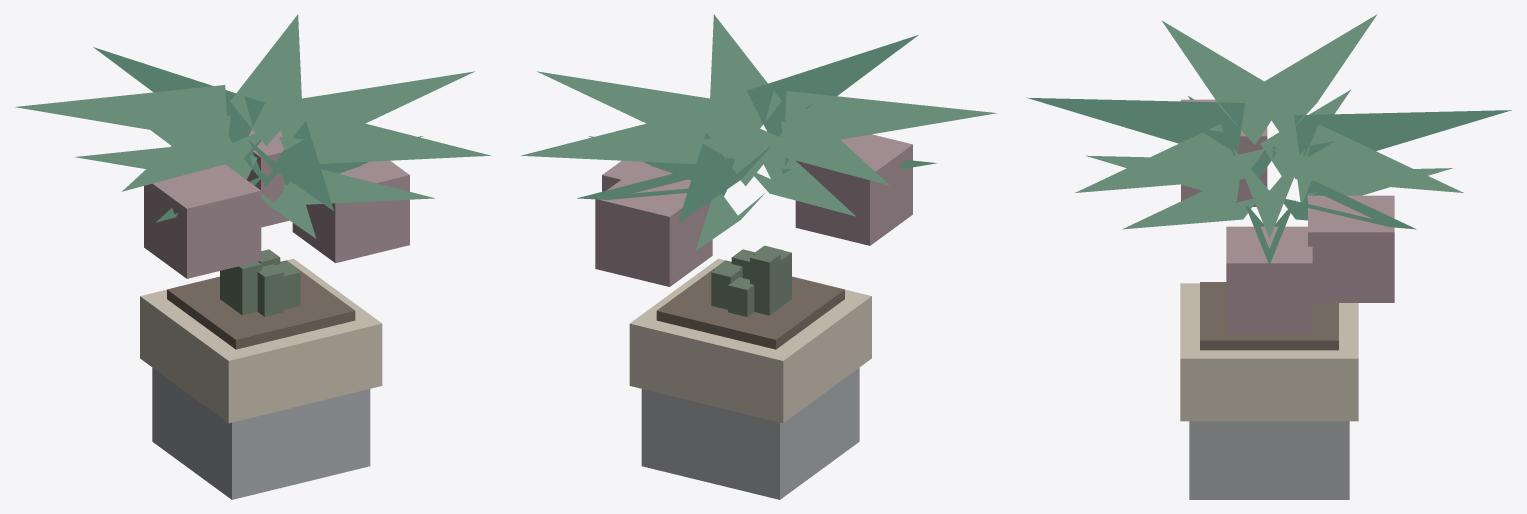
3 renders of one model, left to right at view 1: azimuth 30°, elevation 25°; view 2: azimuth 150°, elevation 25°; view 3: azimuth 270°, elevation 25°, orthographic.
Parts seen in each view (by area): view 1: RG-GAME-02-INDOOR-GREENERY-V16__STANDALONE_PL10__ASSET_1F_le (×2), RG-GAME-02-INDOOR-GREENERY-V16__STANDALONE_PL10__ASSET_1F_st (×2), RG-GAME-02-INDOOR-GREENERY-V16__STANDALONE_PL10__ASSET_1F_fl, RG-GAME-02-INDOOR-GREENERY-V16__STANDALONE_PL10__ASSET_1F_ri, RG-GAME-02-INDOOR-GREENERY-V16__STANDALONE_PL10__ASSET_1F_so; view 2: RG-GAME-02-INDOOR-GREENERY-V16__STANDALONE_PL10__ASSET_1F_le (×2), RG-GAME-02-INDOOR-GREENERY-V16__STANDALONE_PL10__ASSET_1F_st (×2), RG-GAME-02-INDOOR-GREENERY-V16__STANDALONE_PL10__ASSET_1F_ri, RG-GAME-02-INDOOR-GREENERY-V16__STANDALONE_PL10__ASSET_1F_fl, RG-GAME-02-INDOOR-GREENERY-V16__STANDALONE_PL10__ASSET_1F_so; view 3: RG-GAME-02-INDOOR-GREENERY-V16__STANDALONE_PL10__ASSET_1F_le (×2), RG-GAME-02-INDOOR-GREENERY-V16__STANDALONE_PL10__ASSET_1F_fl, RG-GAME-02-INDOOR-GREENERY-V16__STANDALONE_PL10__ASSET_1F_ri, RG-GAME-02-INDOOR-GREENERY-V16__STANDALONE_PL10__ASSET_1F_st, RG-GAME-02-INDOOR-GREENERY-V16__STANDALONE_PL10__ASSET_1F_so.
Part boxes in pixels (x1,y1,x2,y2): RG-GAME-02-INDOOR-GREENERY-V16__STANDALONE_PL10__ASSET_1F_le (×2): (15,14,490,238); RG-GAME-02-INDOOR-GREENERY-V16__STANDALONE_PL10__ASSET_1F_st (×2): (152,249,370,499); RG-GAME-02-INDOOR-GREENERY-V16__STANDALONE_PL10__ASSET_1F_fl: (144,129,409,278); RG-GAME-02-INDOOR-GREENERY-V16__STANDALONE_PL10__ASSET_1F_ri: (140,258,382,423); RG-GAME-02-INDOOR-GREENERY-V16__STANDALONE_PL10__ASSET_1F_so: (167,260,355,349); RG-GAME-02-INDOOR-GREENERY-V16__STANDALONE_PL10__ASSET_1F_le (×2): (521,14,997,250); RG-GAME-02-INDOOR-GREENERY-V16__STANDALONE_PL10__ASSET_1F_st (×2): (641,245,859,499); RG-GAME-02-INDOOR-GREENERY-V16__STANDALONE_PL10__ASSET_1F_ri: (629,258,871,423); RG-GAME-02-INDOOR-GREENERY-V16__STANDALONE_PL10__ASSET_1F_fl: (595,134,912,286); RG-GAME-02-INDOOR-GREENERY-V16__STANDALONE_PL10__ASSET_1F_so: (656,260,844,349); RG-GAME-02-INDOOR-GREENERY-V16__STANDALONE_PL10__ASSET_1F_le (×2): (1026,14,1511,265); RG-GAME-02-INDOOR-GREENERY-V16__STANDALONE_PL10__ASSET_1F_fl: (1181,99,1394,333); RG-GAME-02-INDOOR-GREENERY-V16__STANDALONE_PL10__ASSET_1F_ri: (1180,283,1358,421); RG-GAME-02-INDOOR-GREENERY-V16__STANDALONE_PL10__ASSET_1F_st: (1189,421,1349,499); RG-GAME-02-INDOOR-GREENERY-V16__STANDALONE_PL10__ASSET_1F_so: (1200,282,1338,350).
Size of the model in its own units: 0.548 by 0.4554 by 0.5621.
